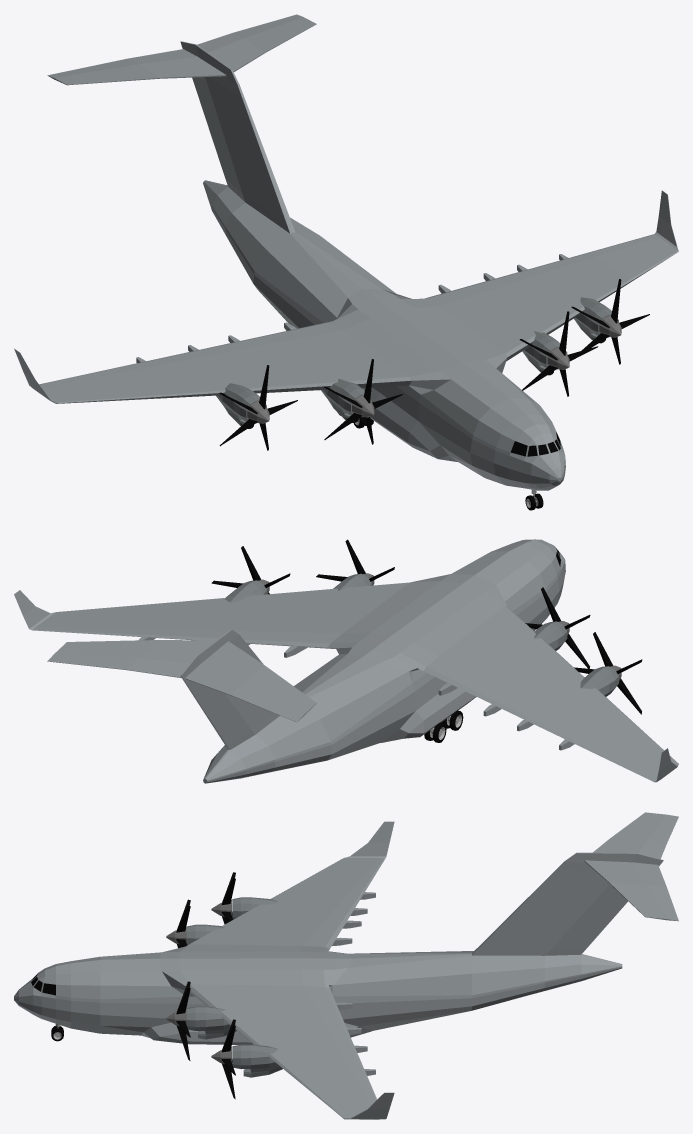
3 renders of one model, top to bottom at view 1: azimuth 30°, elevation 25°; view 2: azimuth 150°, elevation 25°; view 3: azimuth 270°, elevation 25°, orthographic. The views are drawn at different scales.
Visible parts, largest first — view 1: Body.002, Rudder.002, R_Flap2.002, propeller 2.011, propeller 2.010, propeller 2.008, propeller 2.009, R_elevator.002, L_Flap2.002, L_Elevator.002, R_Flap1.002; view 2: Body.002, Rudder.002, R_Flap2.002, R_elevator.002, L_Elevator.002, L_Flap2.002, R_Flap1.002, L_Flap1.002, propeller 2.011, propeller 2.010, Landing gear_RR.002, R_ailerone.002 (+3 smaller); view 3: Body.002, Rudder.002, L_Flap2.002, R_Flap2.002, L_Elevator.002, L_Flap1.002, R_elevator.002, R_Flap1.002, propeller 2.008, propeller 2.009, propeller 2.011, propeller 2.010.
Part boxes in pixels (x1,y1,x2,y2): Body.002: (14,17,678,490); Rudder.002: (192,77,241,192); R_Flap2.002: (227,322,342,349); propeller 2.011: (219,365,297,450); propeller 2.010: (324,359,402,444); propeller 2.008: (519,311,598,396); propeller 2.009: (571,279,649,364); R_elevator.002: (47,49,193,78); L_Flap2.002: (425,273,511,306); L_Elevator.002: (197,14,303,52); R_Flap1.002: (116,345,220,371); Body.002: (14,539,678,783); Rudder.002: (186,681,251,745); R_Flap2.002: (424,657,511,716); R_elevator.002: (188,665,303,722); L_Elevator.002: (47,654,189,677); L_Flap2.002: (237,631,342,657); R_Flap1.002: (515,705,595,750); L_Flap1.002: (115,628,220,640); propeller 2.011: (574,632,642,714); propeller 2.010: (525,587,590,668); Landing gear_RR.002: (424,710,463,742); R_ailerone.002: (593,746,656,781); Body.002: (14,812,667,1119); Rudder.002: (550,884,628,950); L_Flap2.002: (304,986,361,1034); R_Flap2.002: (304,916,361,948); L_Elevator.002: (634,863,678,921); L_Flap1.002: (333,1038,375,1082); R_elevator.002: (638,814,678,859); R_Flap1.002: (333,883,375,915); propeller 2.008: (166,981,190,1060); propeller 2.009: (211,1019,235,1099); propeller 2.011: (211,872,235,924); propeller 2.010: (166,899,190,948).
Size of the model in its own units: 4342 by 1391 by 4498.
